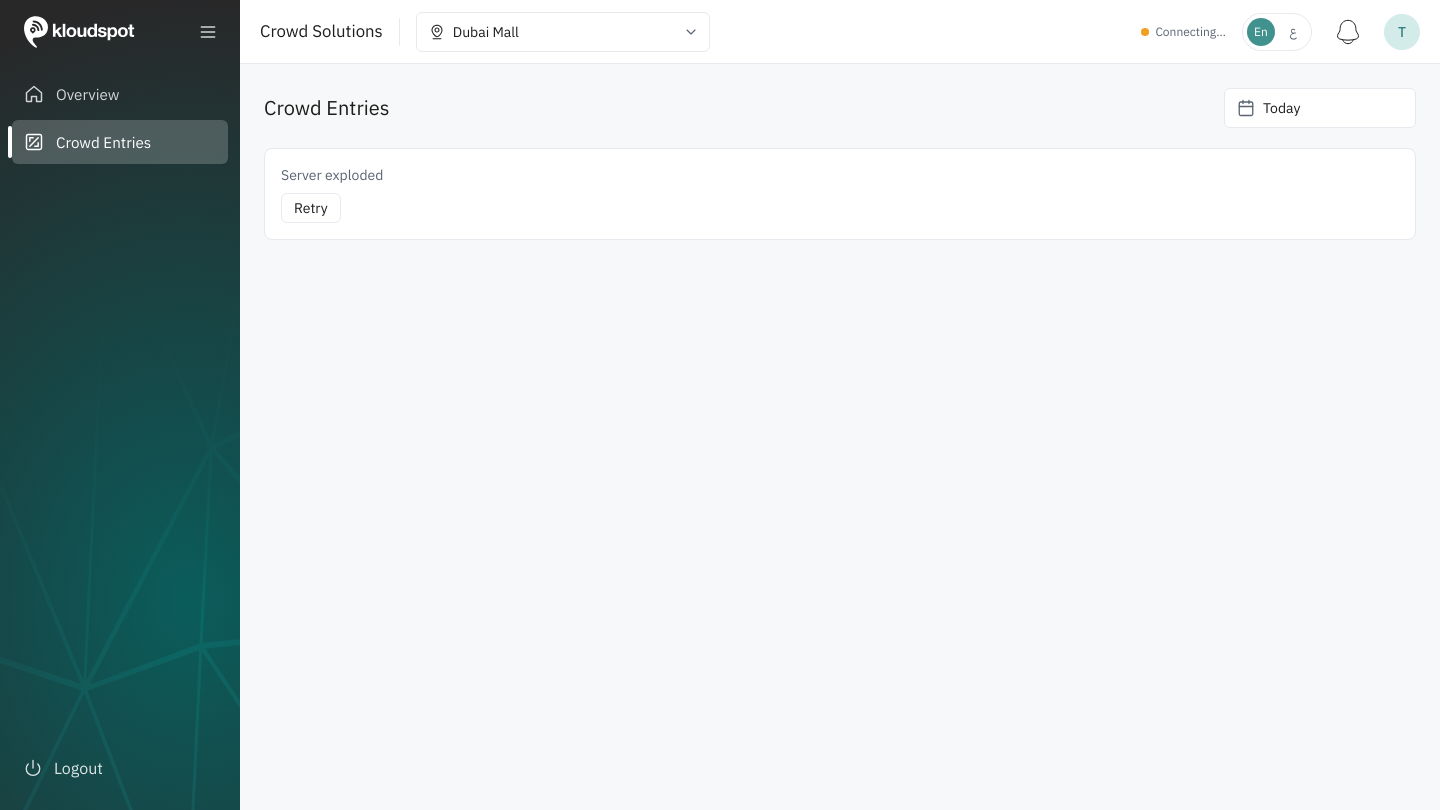
Test: Crowd Entries › offers Retry when the request fails
Check: the text "Server exploded" is shown, box [281, 165, 383, 185]
Click the button "Retry": [311, 208] box [281, 193, 341, 223]
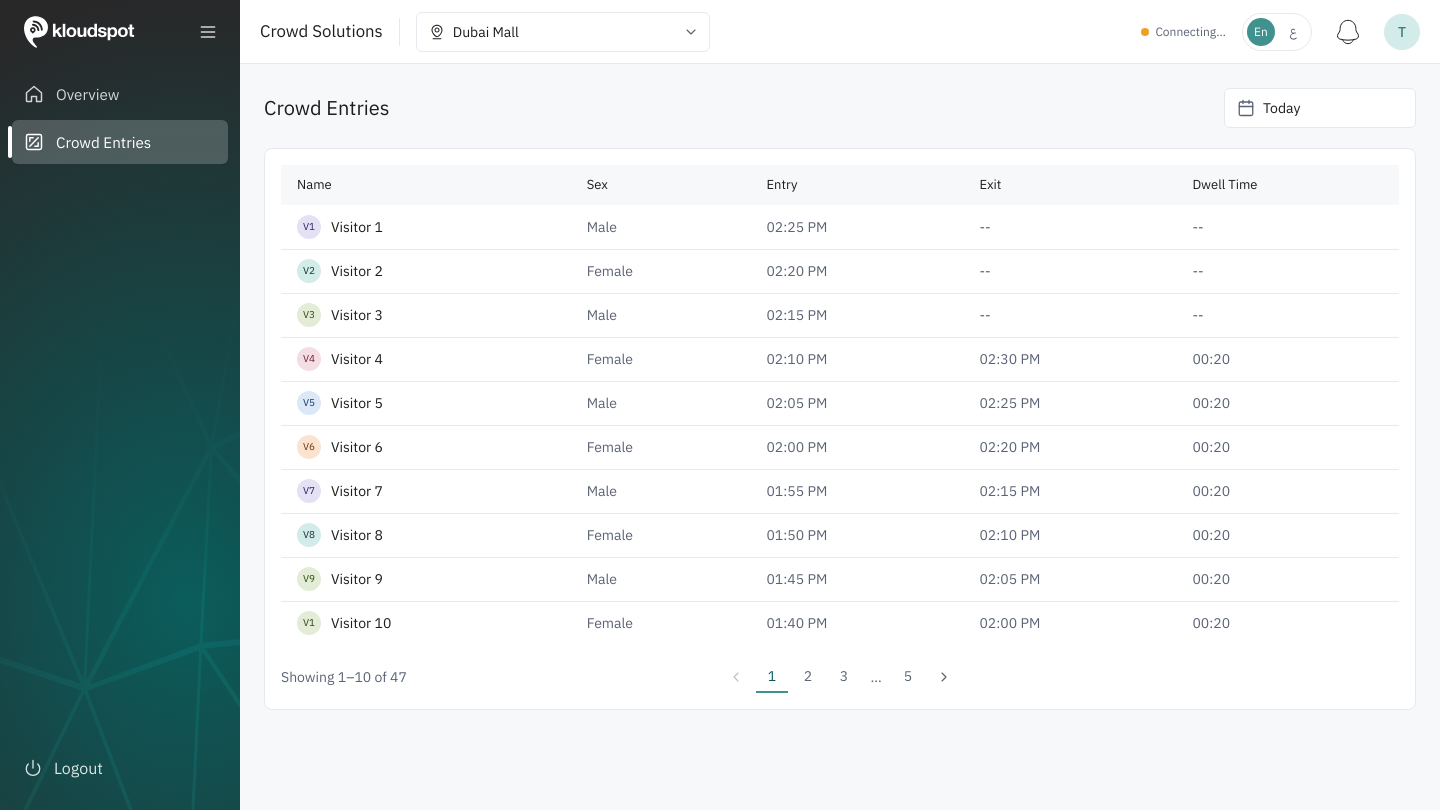
Check: the text "Visitor 1" is shown, box [331, 217, 383, 237]
